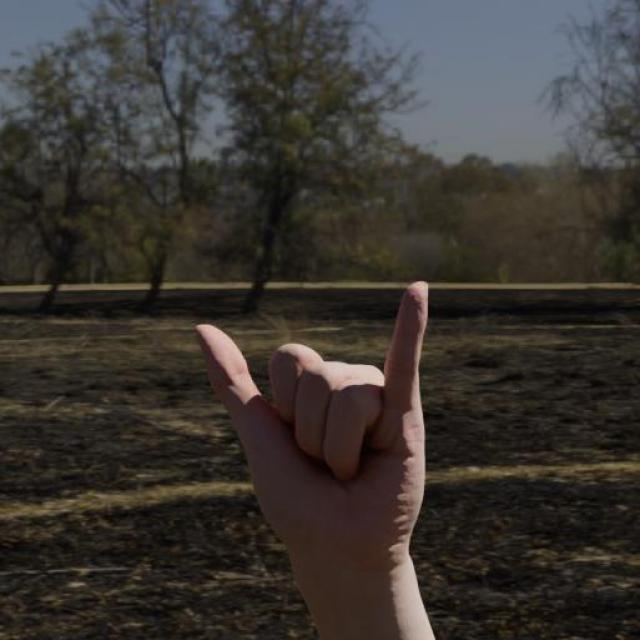Y: (191, 276, 442, 564)
